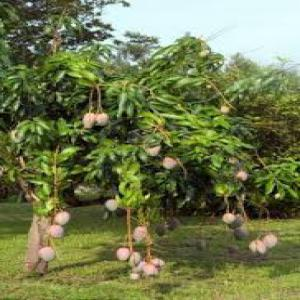Tree: (4, 4, 288, 282)
